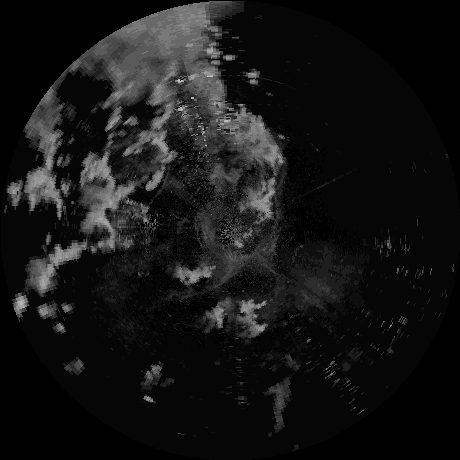frontgust: (176, 279, 223, 300), (271, 188, 281, 234), (157, 165, 170, 195)
